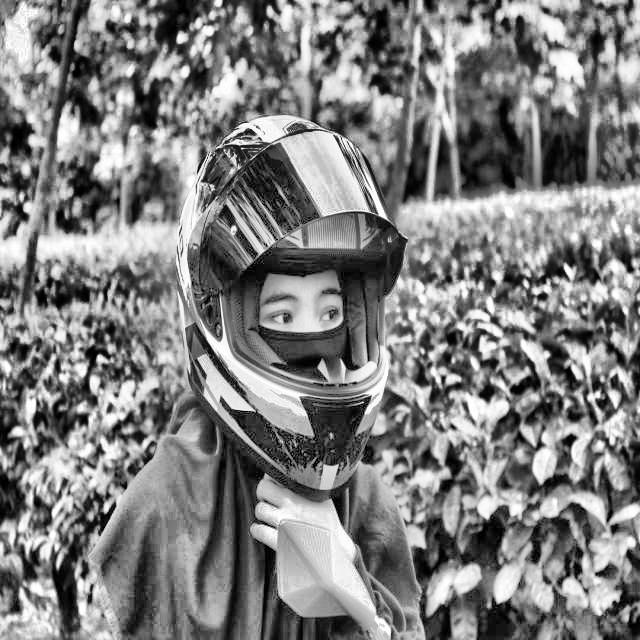Helmet: (170, 109, 412, 508)
